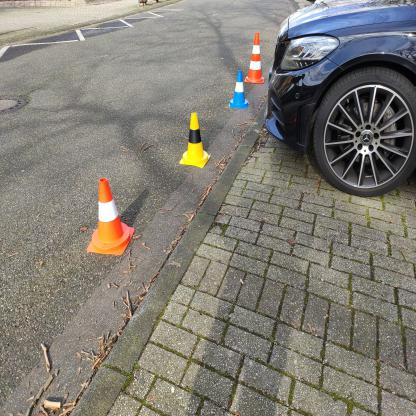Cones_big: (242, 24, 267, 86)
Cones_small_blue: (223, 52, 251, 112)
Cones_small_orange: (67, 165, 141, 265)
Cones_small_yellow: (180, 97, 208, 173)
